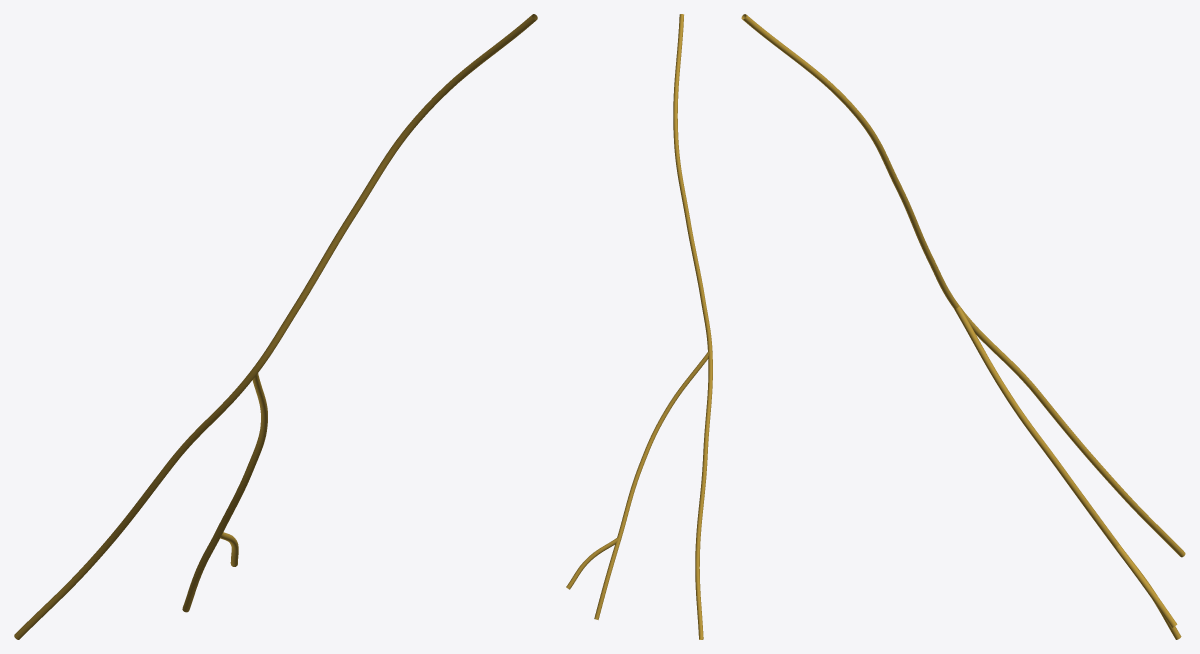
The picture shows the model from 3 angles, left to right: view 1: azimuth 30°, elevation 25°; view 2: azimuth 150°, elevation 25°; view 3: azimuth 270°, elevation 25°; orthographic projection. The views are drawn at different scales.
Parts seen in each view (by area): view 1: 左侧足背内侧皮神经; view 2: 左侧足背内侧皮神经; view 3: 左侧足背内侧皮神经.
Part boxes in pixels (x1,y1,x2,y2): 左侧足背内侧皮神经: (14, 14, 537, 639); 左侧足背内侧皮神经: (566, 14, 712, 639); 左侧足背内侧皮神经: (741, 14, 1185, 639).
Bounding box in the file's own units: 0.066 × 0.1684 × 0.1008.
